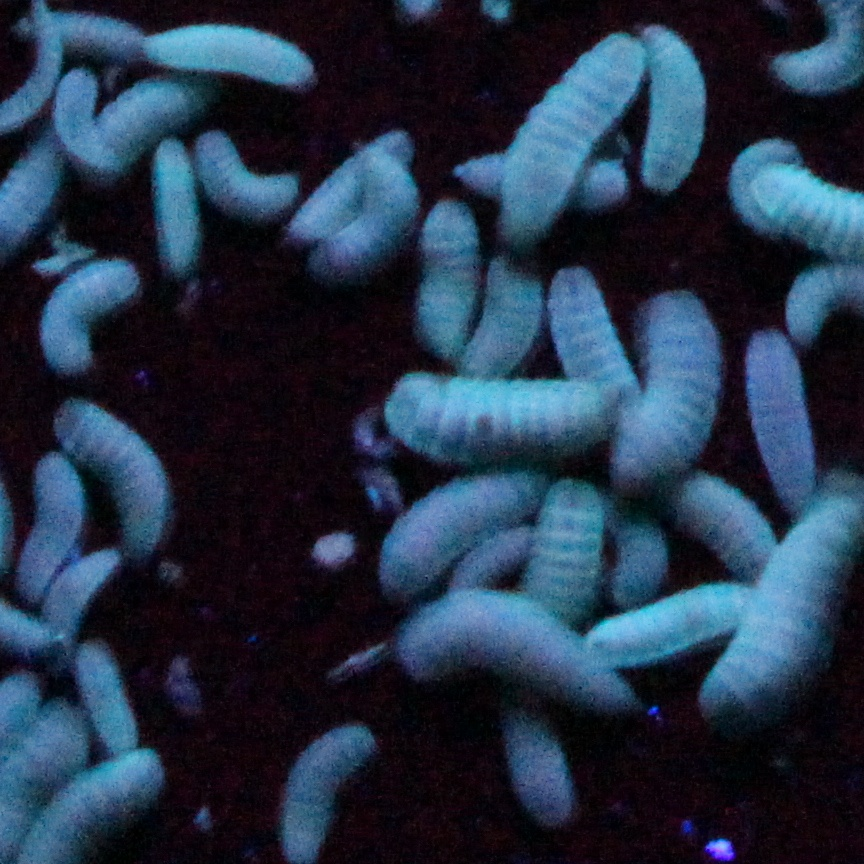larve: (383, 595, 642, 715), (503, 29, 653, 224), (374, 462, 547, 598), (380, 378, 643, 462), (616, 287, 722, 478), (58, 393, 173, 546), (743, 333, 833, 511), (662, 462, 782, 584), (596, 582, 764, 664), (289, 129, 411, 240), (29, 251, 140, 373), (140, 18, 322, 87), (91, 66, 207, 171), (322, 144, 414, 276), (547, 273, 638, 404), (640, 15, 703, 193), (505, 695, 585, 826), (142, 136, 213, 273), (467, 247, 543, 373), (189, 133, 294, 224), (18, 453, 85, 595), (533, 482, 598, 616), (456, 153, 631, 202), (45, 71, 127, 169), (422, 202, 474, 353), (9, 7, 160, 58), (78, 636, 140, 758), (729, 140, 793, 235)
